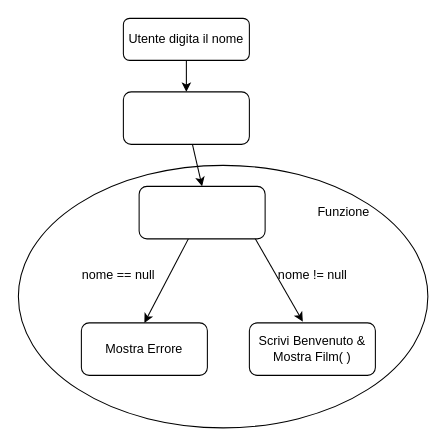
This 446x446 diagram has some shape labels left out. The shapes that lost their labels are listed below. From the top down, each one's centre as x and y in pixels, then its label:
the point at 185,117: Click su Invia
the point at 201,212: Acquisisce nome
